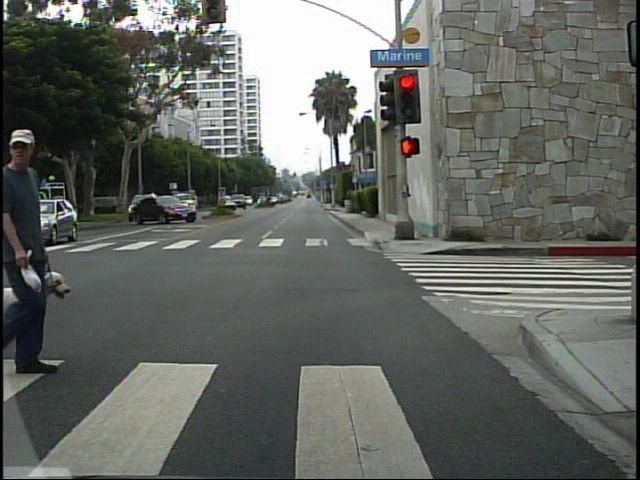person: (0, 113, 64, 381)
